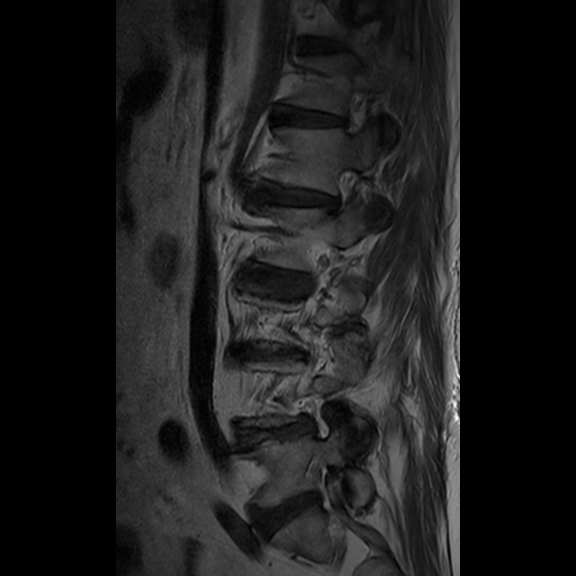RFS0: (315, 161, 366, 221)
